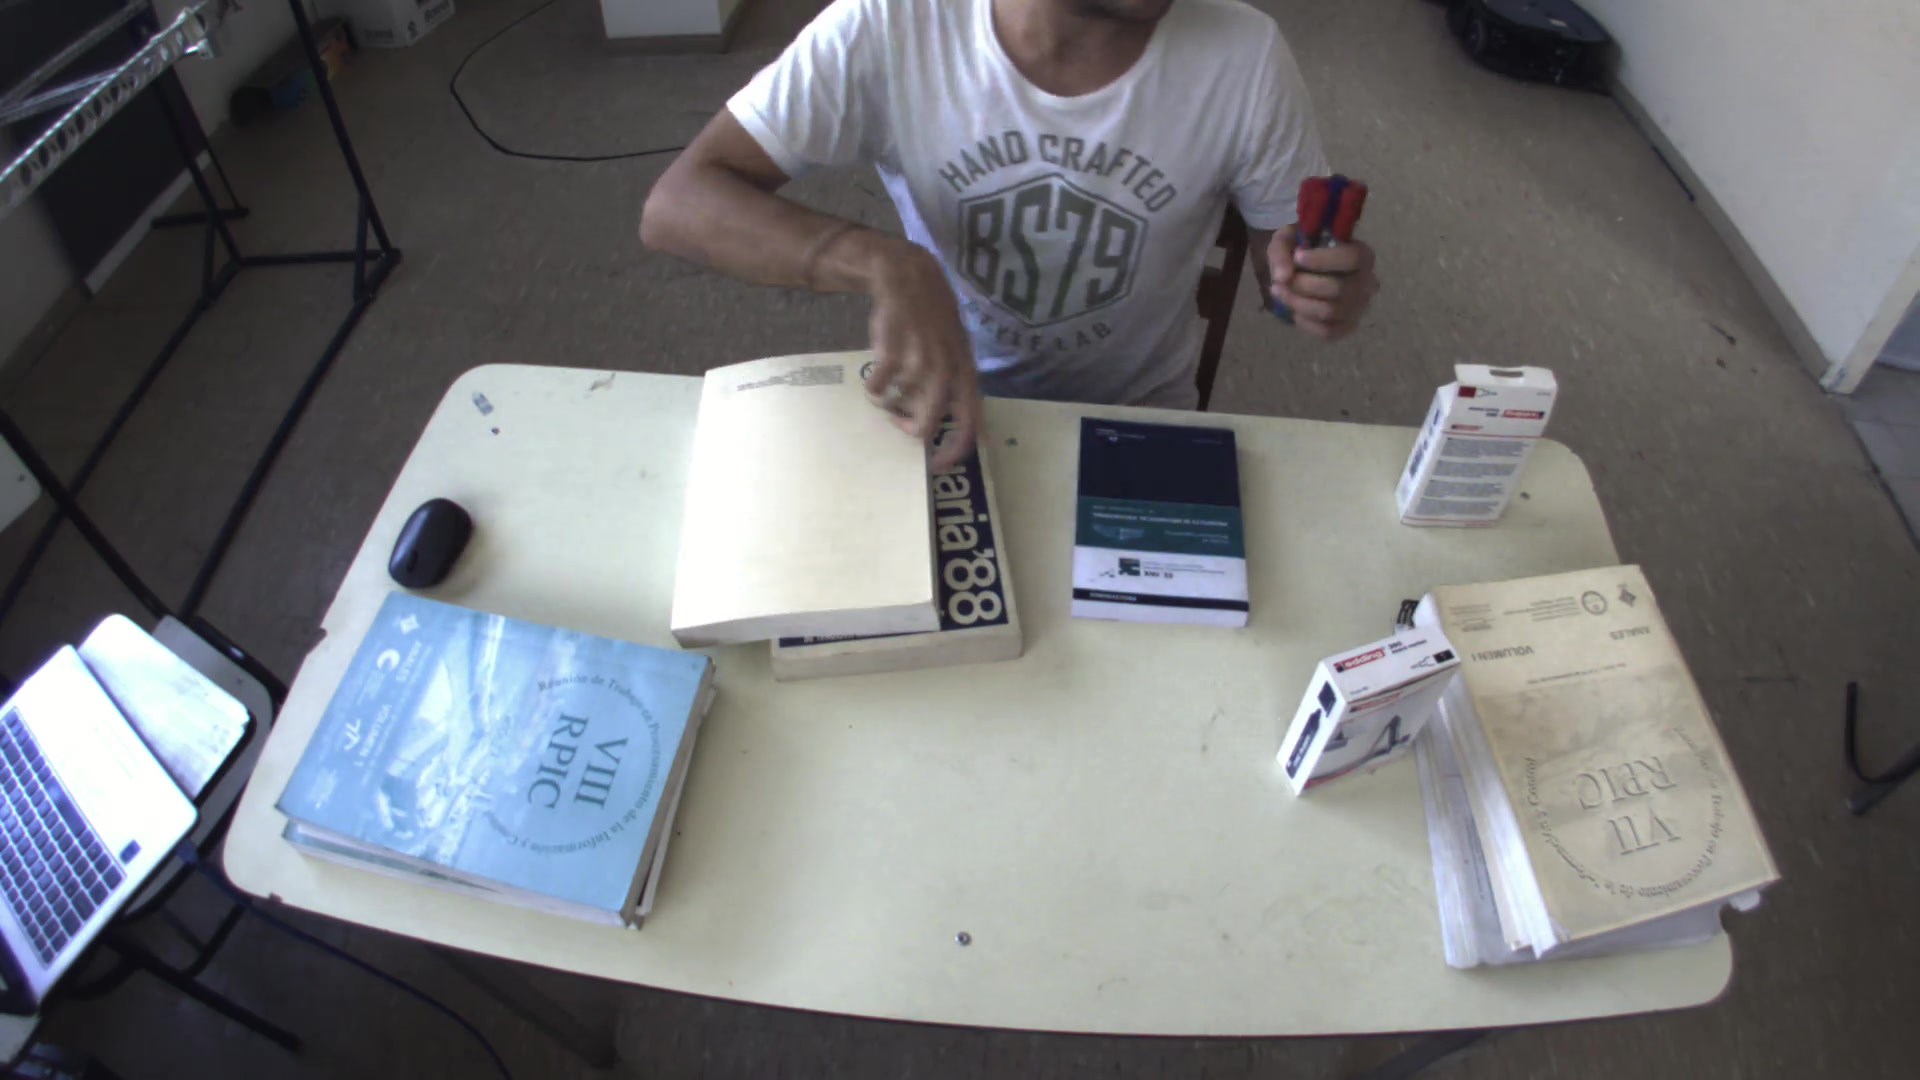hand: (840, 251, 997, 465), (1257, 160, 1400, 348)
